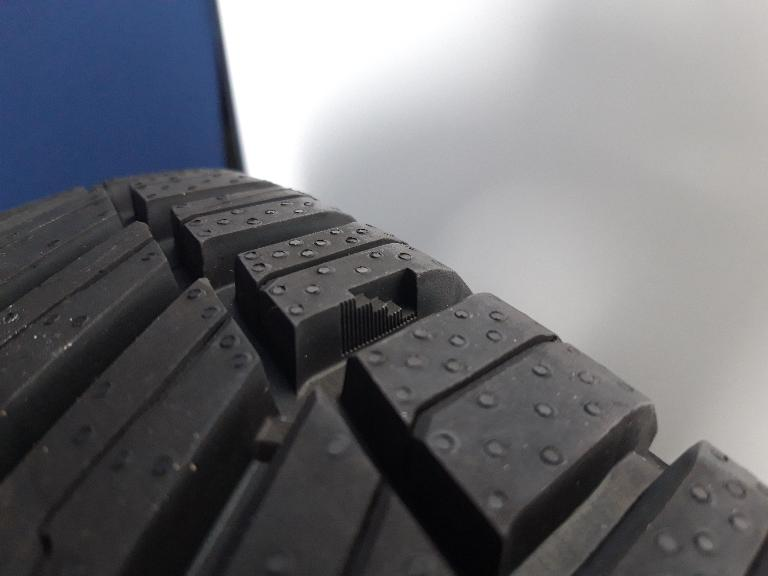temoin:100: (336, 263, 424, 360)
